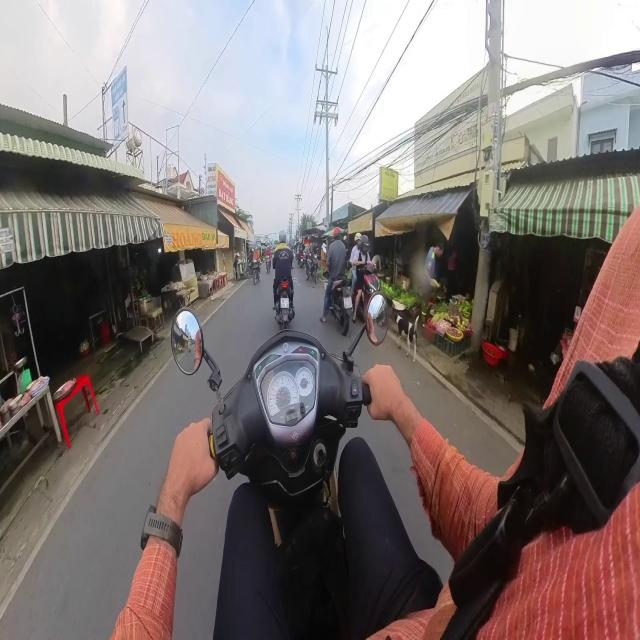motorcycle: (172, 293, 388, 638), (356, 264, 380, 319), (330, 277, 352, 335), (276, 279, 294, 329)
